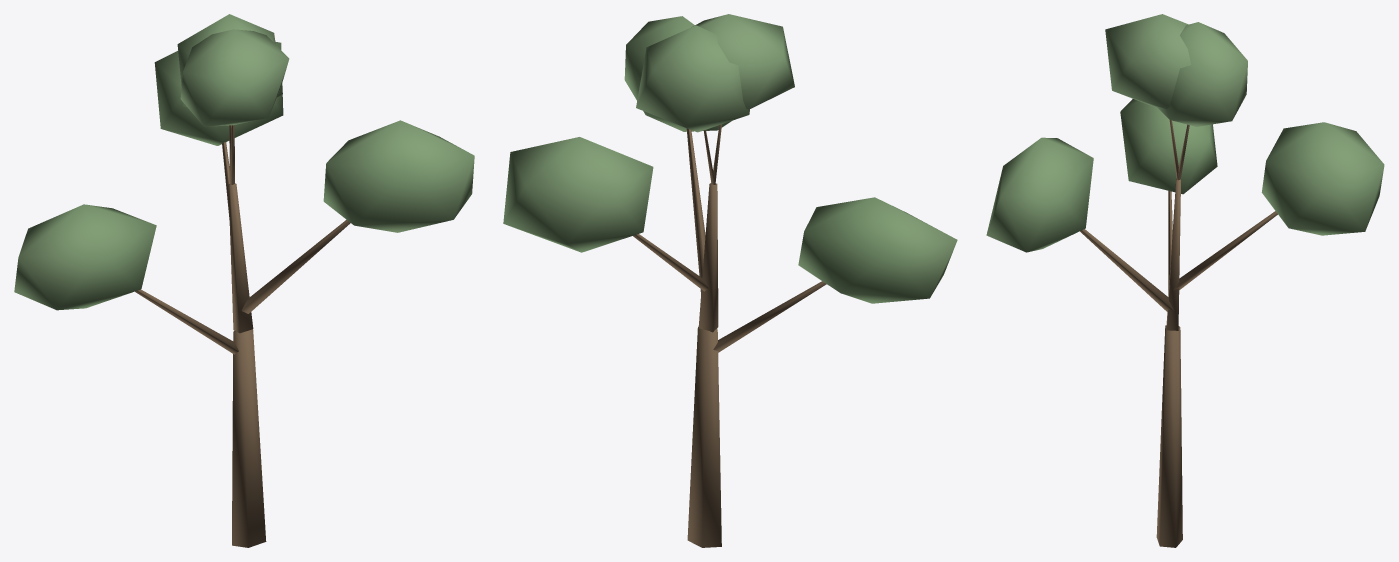
The model's file is deciduous_far.glb.
3 renders of one model, left to right at view 1: azimuth 30°, elevation 25°; view 2: azimuth 150°, elevation 25°; view 3: azimuth 270°, elevation 25°, orthographic. The views are drawn at different scales.
Visible parts, largest first — view 1: deciduous_far; view 2: deciduous_far; view 3: deciduous_far.
Boxes of the visible parts, x1=… form: deciduous_far: x1=14, y1=14, x2=474, y2=547; deciduous_far: x1=503, y1=14, x2=957, y2=547; deciduous_far: x1=986, y1=14, x2=1384, y2=547.
Bounding box in the file's own units: 10.6 × 13.5 × 9.4.
